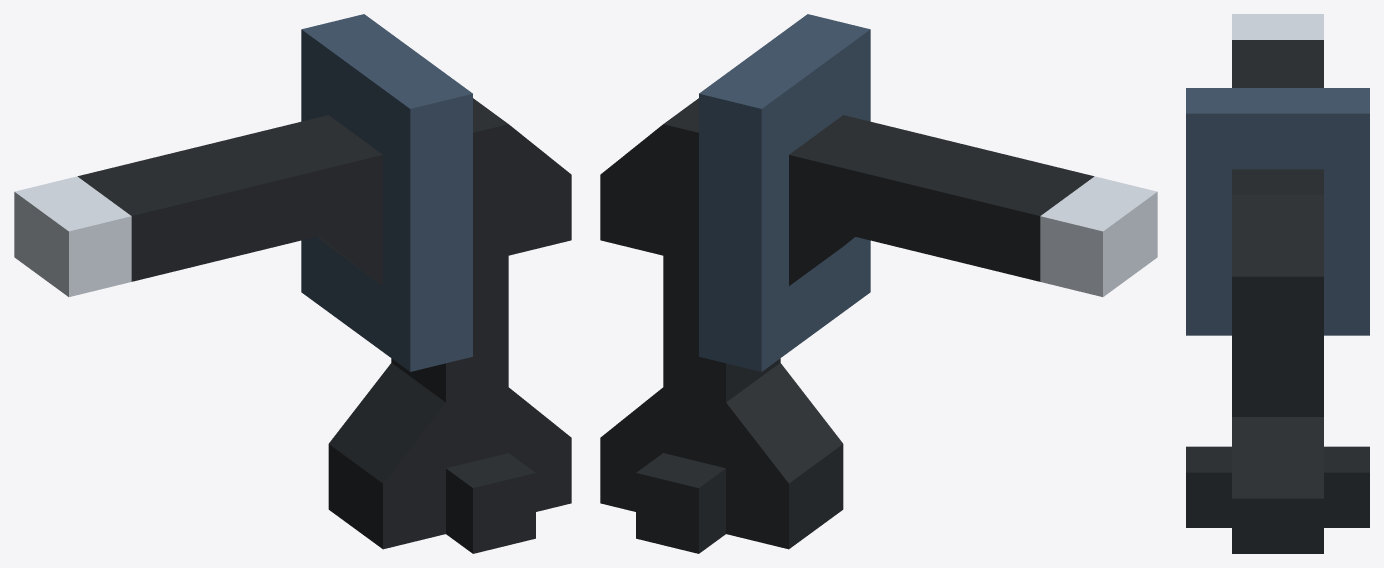
File: truck_turret.fbx
The picture shows the model from 3 angles, left to right: view 1: azimuth 30°, elevation 25°; view 2: azimuth 150°, elevation 25°; view 3: azimuth 270°, elevation 25°; orthographic projection. The views are drawn at different scales.
Visible parts, largest first — view 1: generated; view 2: generated; view 3: generated.
Boxes of the visible parts, x1,y1,x2,y2 form: generated: (14, 14, 571, 553); generated: (600, 14, 1157, 553); generated: (1186, 14, 1369, 553).
Size of the model in its own units: 80 by 70 by 30.
